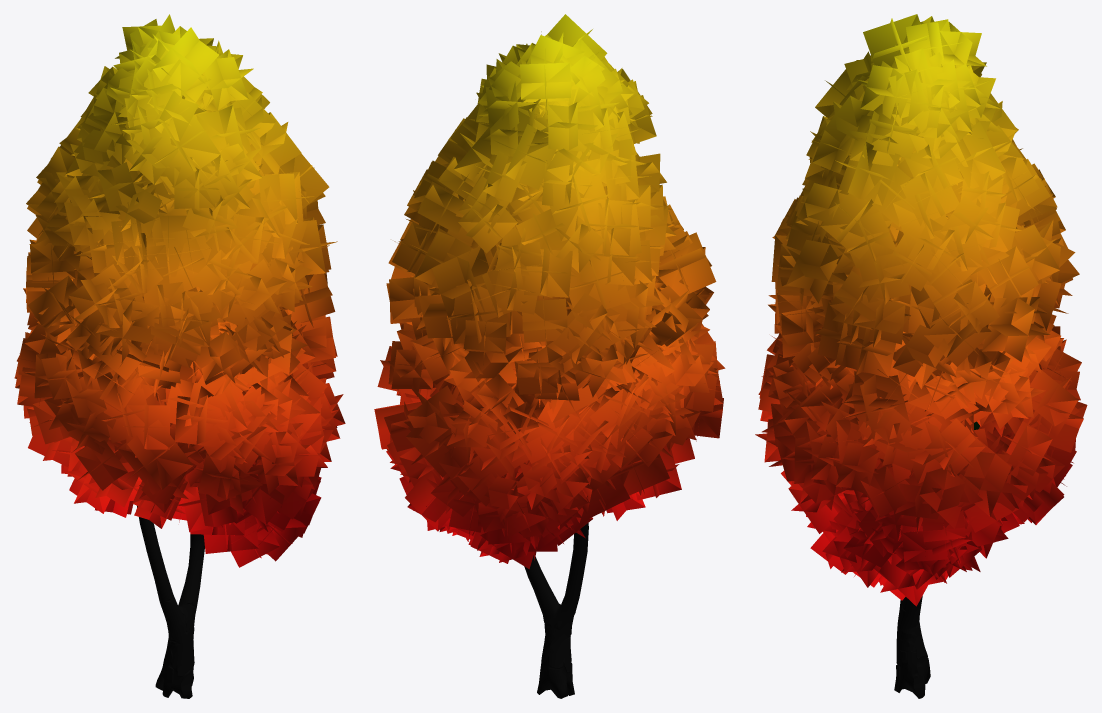
The model's file is TGV_Birch_Tree_01A.fbx.
3 views of the same model, side by side, from view 1: azimuth 30°, elevation 25°; view 2: azimuth 150°, elevation 25°; view 3: azimuth 270°, elevation 25° (orthographic).
Parts seen in each view (by area): view 1: TGV_Birch_Tree_01A_LOD0; view 2: TGV_Birch_Tree_01A_LOD0; view 3: TGV_Birch_Tree_01A_LOD0.
Boxes of the visible parts, x1,y1,x2,y2 form: TGV_Birch_Tree_01A_LOD0: (14,14,345,698); TGV_Birch_Tree_01A_LOD0: (374,14,725,698); TGV_Birch_Tree_01A_LOD0: (755,14,1087,698).
Bounding box in the file's own units: 939 × 1998 × 893.
